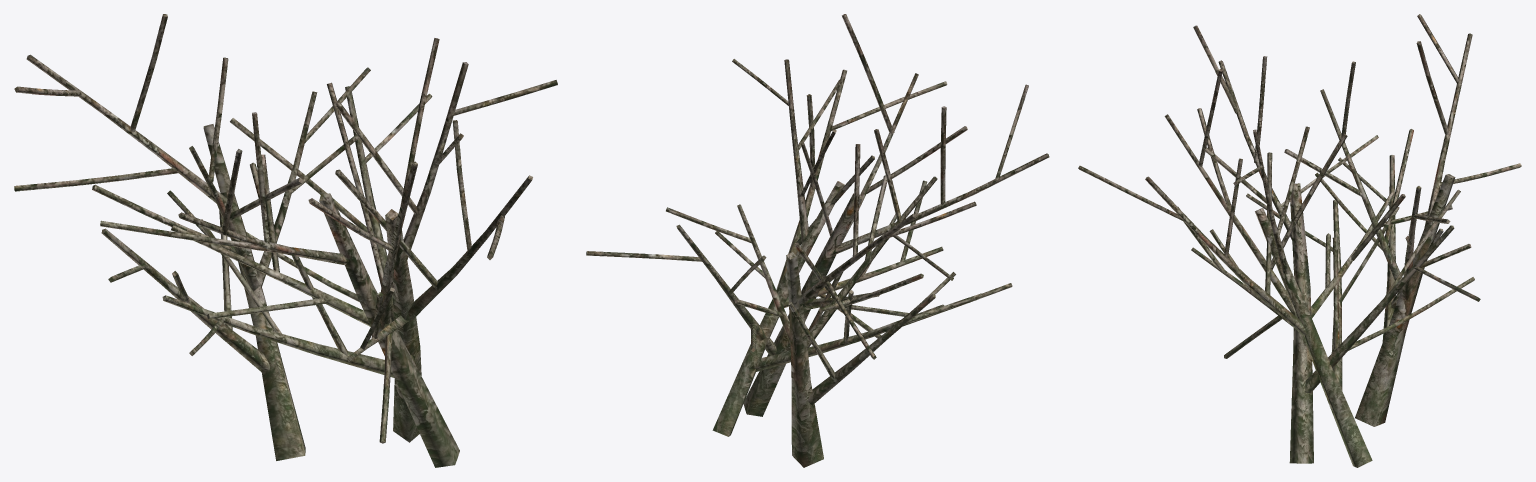
Rendered from bush2_trunk.glb.
The picture shows the model from 3 angles, left to right: view 1: azimuth 30°, elevation 25°; view 2: azimuth 150°, elevation 25°; view 3: azimuth 270°, elevation 25°; orthographic projection. The views are drawn at different scales.
Visible parts, largest first — view 1: trunk; view 2: trunk; view 3: trunk.
Part boxes in pixels (x1=…): trunk: x1=14, y1=14, x2=557, y2=467; trunk: x1=586, y1=14, x2=1049, y2=467; trunk: x1=1078, y1=14, x2=1521, y2=467.
Size of the model in its own units: 1.35 by 1.36 by 1.46.
Materials: 1 (1 with a texture image).
